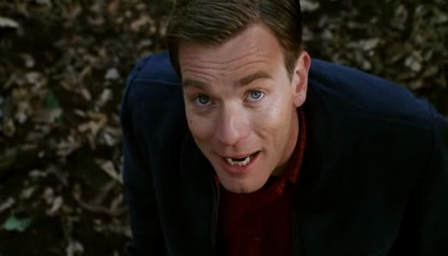cu: (1, 1, 448, 256)
face: (182, 46, 286, 194)
person: (119, 1, 448, 256)
